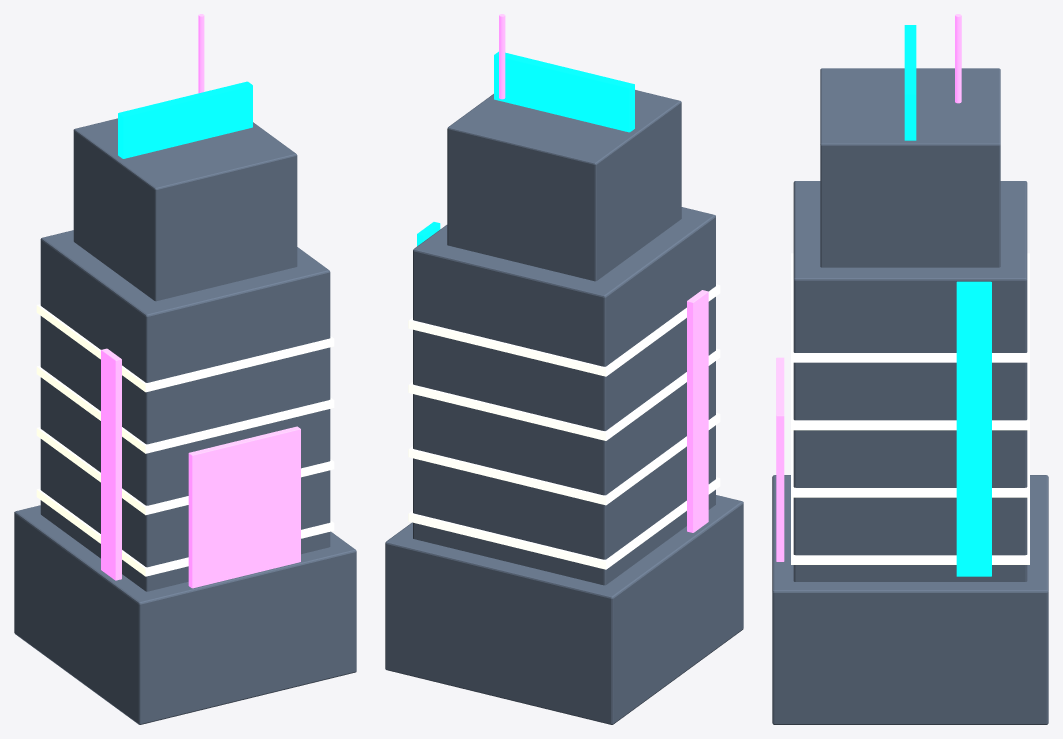
Rendered from building_akari_neon.glb.
3 renders of one model, left to right at view 1: azimuth 30°, elevation 25°; view 2: azimuth 150°, elevation 25°; view 3: azimuth 270°, elevation 25°, orthographic. The views are drawn at different scales.
Parts seen in each view (by area): view 1: MidTower, PodiumBase, Penthouse, NeonFrontSign, RoofCrownSign, NeonBillboardMagenta, WindowBand_3, WindowBand_4, WindowBand_2, WindowBand_1, RoofAntenna; view 2: MidTower, PodiumBase, Penthouse, RoofCrownSign, NeonBillboardMagenta, WindowBand_1, WindowBand_4, WindowBand_2, WindowBand_3, RoofAntenna; view 3: MidTower, PodiumBase, Penthouse, NeonBillboardCyan, WindowBand_4, WindowBand_3, WindowBand_2, WindowBand_1, NeonFrontSign, RoofCrownSign, RoofAntenna.
Part boxes in pixels (left/top/right/bottom): MidTower: left=40, top=230, right=330, bottom=591; PodiumBase: left=14, top=505, right=356, bottom=724; Penthouse: left=73, top=118, right=297, bottom=301; NeonFrontSign: left=188, top=426, right=300, bottom=588; RoofCrownSign: left=118, top=81, right=252, bottom=158; NeonBillboardMagenta: left=101, top=348, right=121, bottom=580; WindowBand_3: left=36, top=365, right=334, bottom=453; WindowBand_4: left=36, top=304, right=334, bottom=392; WindowBand_2: left=36, top=427, right=334, bottom=515; WindowBand_1: left=36, top=488, right=334, bottom=576; RoofAntenna: left=198, top=14, right=204, bottom=93; MidTower: left=413, top=207, right=715, bottom=585; PodiumBase: left=385, top=495, right=743, bottom=724; Penthouse: left=447, top=90, right=681, bottom=281; RoofCrownSign: left=494, top=51, right=634, bottom=132; NeonBillboardMagenta: left=687, top=290, right=708, bottom=532; WindowBand_1: left=408, top=477, right=720, bottom=569; WindowBand_4: left=408, top=284, right=720, bottom=376; WindowBand_2: left=408, top=413, right=720, bottom=505; WindowBand_3: left=408, top=348, right=720, bottom=440; RoofAntenna: left=499, top=14, right=505, bottom=99; MidTower: left=793, top=181, right=1027, bottom=581; PodiumBase: left=772, top=475, right=1048, bottom=724; Penthouse: left=820, top=68, right=1000, bottom=267; NeonBillboardCyan: left=956, top=281, right=991, bottom=576; WindowBand_4: left=791, top=253, right=1029, bottom=362; WindowBand_3: left=791, top=362, right=1029, bottom=430; WindowBand_2: left=791, top=430, right=1029, bottom=497; WindowBand_1: left=791, top=497, right=1029, bottom=564; NeonFrontSign: left=776, top=357, right=784, bottom=561; RoofCrownSign: left=904, top=25, right=916, bottom=140; RoofAntenna: left=955, top=14, right=961, bottom=103.
Bounding box in the file's own units: 18.72 × 50.29 × 18.72.
